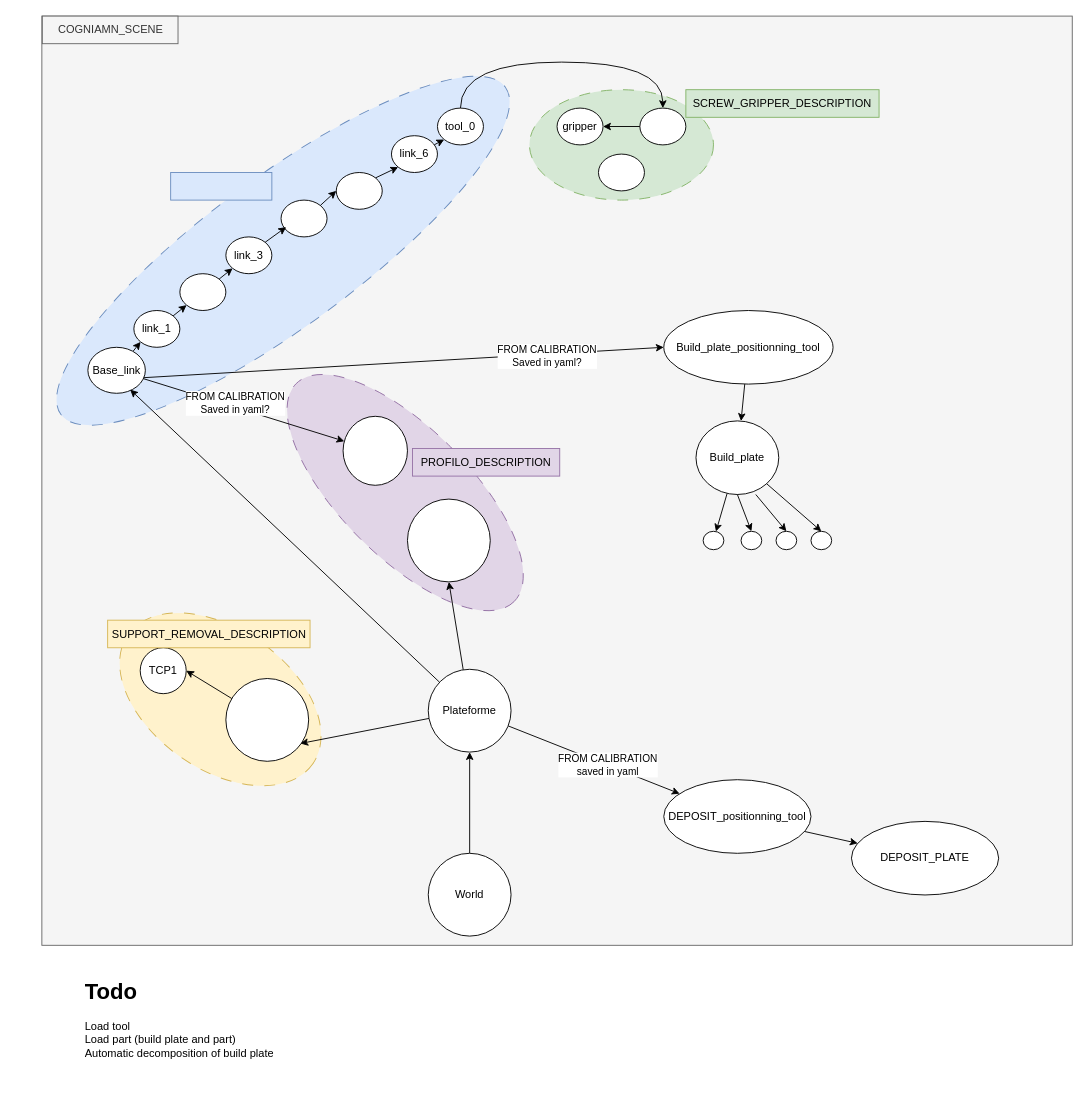
The diagram is 1088 pixels wide and 1102 high, and some of its shapes have lost their labels. Each missing label, with the centre of its shape:
"gripper _tcp" goes at pixel 662 126.
"gripper _tcp2" goes at pixel 621 172.
"link_2" goes at pixel 202 291.
"link_4" goes at pixel 303 218.
"link_5" goes at pixel 358 190.
"MOTOMAN_GP7" goes at pixel 221 186.
"profilo_ optical_ center" goes at pixel 374 450.
"Sensor - profilometer" goes at pixel 448 540.
"Support removal tool" goes at pixel 267 719.
